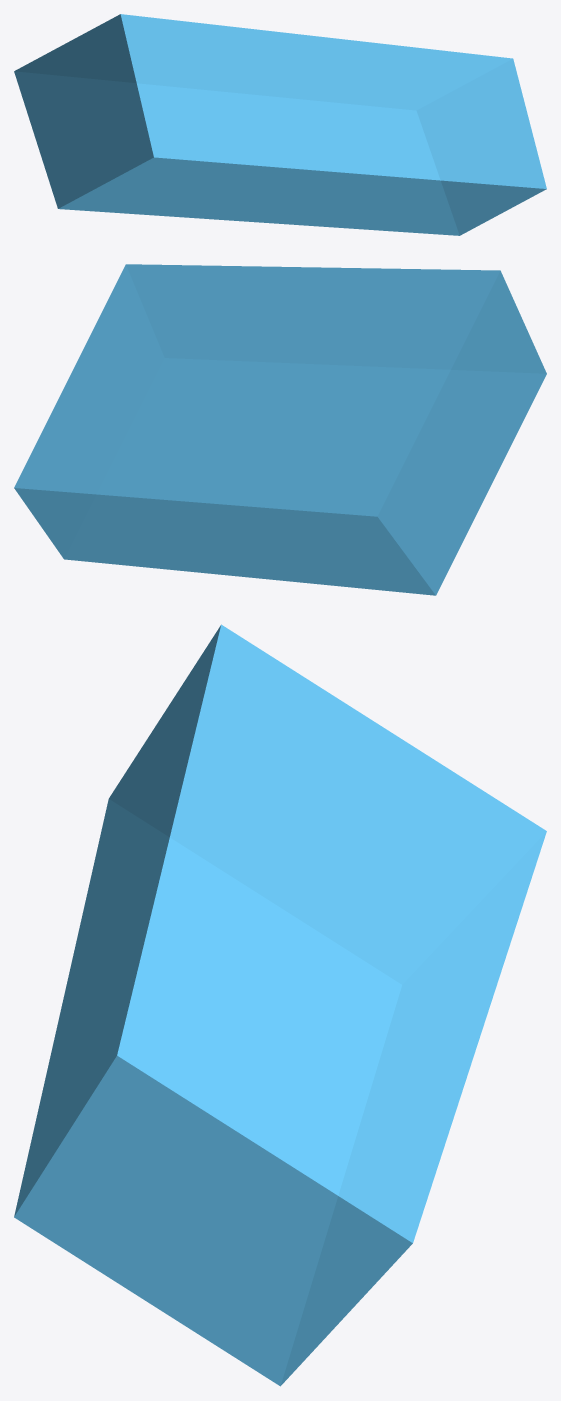
Rendered from Event_420094457_HErechit_7.fbx.
3 renders of one model, top to bottom at view 1: azimuth 30°, elevation 25°; view 2: azimuth 150°, elevation 25°; view 3: azimuth 270°, elevation 25°, orthographic. The views are drawn at different scales.
Parts seen in each view (by area): view 1: Model; view 2: Model; view 3: Model.
Boxes of the visible parts, x1=… form: Model: x1=14, y1=14, x2=546, y2=235; Model: x1=14, y1=264, x2=546, y2=595; Model: x1=14, y1=624, x2=546, y2=1386.
Bounding box in the file's own units: 1.03 × 0.8818 × 0.8614.
